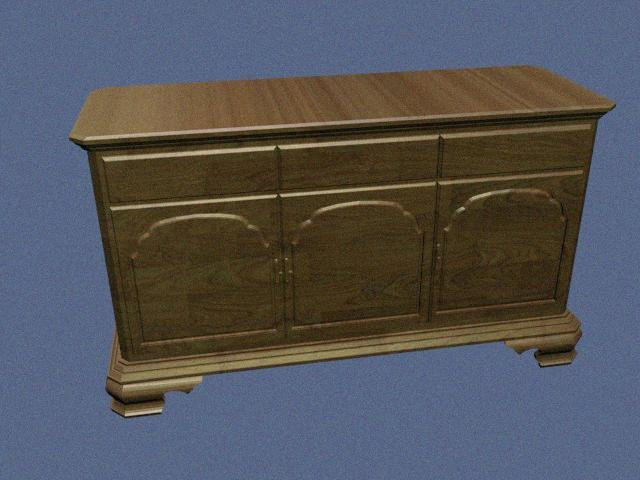cabinet_door: (122, 202, 284, 346), (284, 189, 434, 331), (434, 178, 572, 316), (105, 152, 280, 196), (280, 140, 440, 184), (441, 129, 588, 171)
